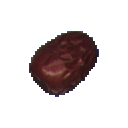gd: (14, 15, 114, 121)
